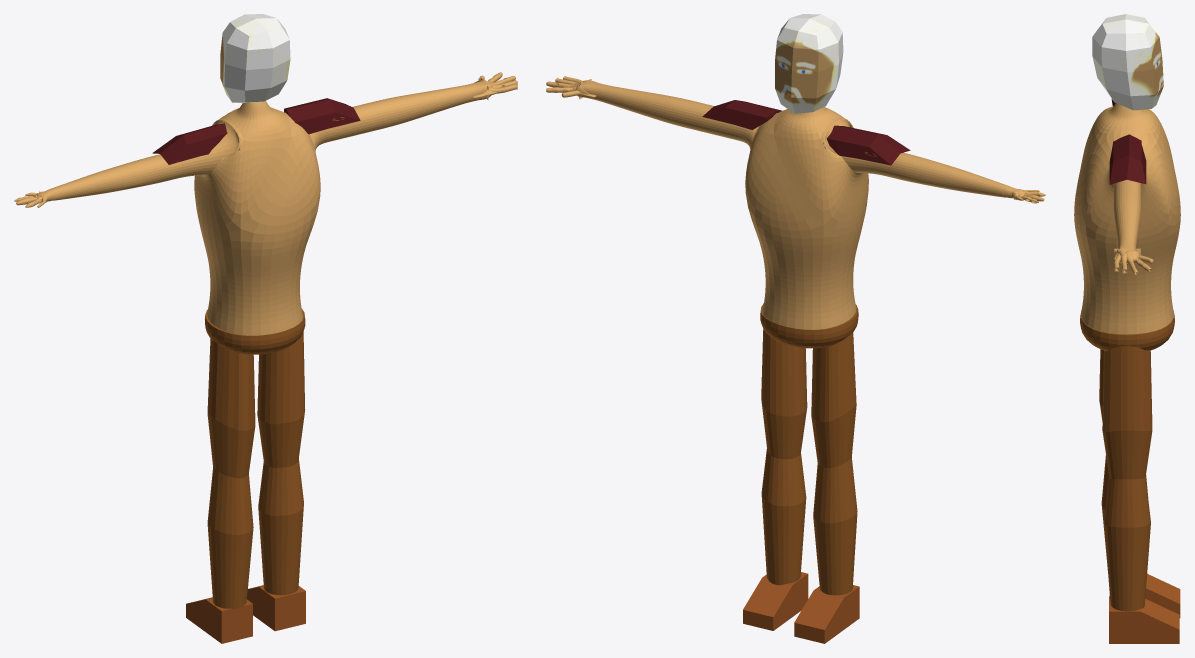
File: old-warrior.fbx
The picture shows the model from 3 angles, left to right: view 1: azimuth 30°, elevation 25°; view 2: azimuth 150°, elevation 25°; view 3: azimuth 270°, elevation 25°; orthographic projection. The views are drawn at different scales.
Visible parts, largest first — view 1: Vert.002, Cylinder, Cylinder.001, Cube.002, Cube, Cube.001, Vert.006, Cube.004, Cube.005; view 2: Vert.002, Cylinder, Cylinder.001, Cube.002, Cube, Cube.001, Cube.005, Vert.006, Cube.004; view 3: Vert.002, Cylinder.001, Cube.002, Cube.001, Cube.004, Vert.006, Cube, Cylinder.
Part boxes in pixels (x1,y1,x2,y2): Vert.002: (14,72,517,335); Cylinder: (207,339,255,608); Cylinder.001: (257,332,305,595); Cube.002: (220,14,290,103); Cube: (186,597,252,643); Cube.001: (247,585,305,631); Vert.006: (205,308,305,354); Cube.004: (284,98,360,134); Cube.005: (152,123,227,164); Vert.002: (546,76,1045,329); Cylinder: (811,332,857,595); Cylinder.001: (761,329,807,585); Cube.002: (775,14,843,113); Cube: (794,585,859,643); Cube.001: (743,572,808,630); Cube.005: (827,125,910,165); Vert.006: (760,303,858,348); Cube.004: (702,100,781,129); Vert.002: (1074,103,1180,334); Cylinder.001: (1102,346,1152,611); Cube.002: (1092,14,1163,110); Cube.001: (1109,596,1179,643); Cube.004: (1109,134,1146,184); Vert.006: (1080,310,1174,350); Cube: (1109,574,1180,617); Cylinder: (1099,349,1148,570).
Size of the model in its own units: 234 by 270 by 43.23.
6 materials, 2 textured.
